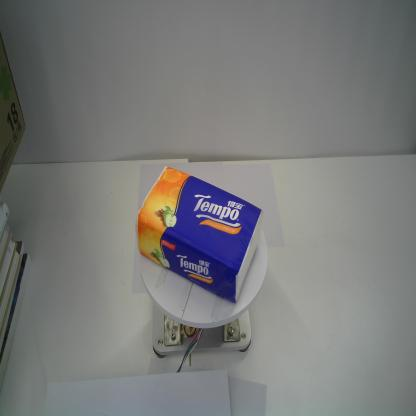Tissue: (134, 164, 263, 304)
